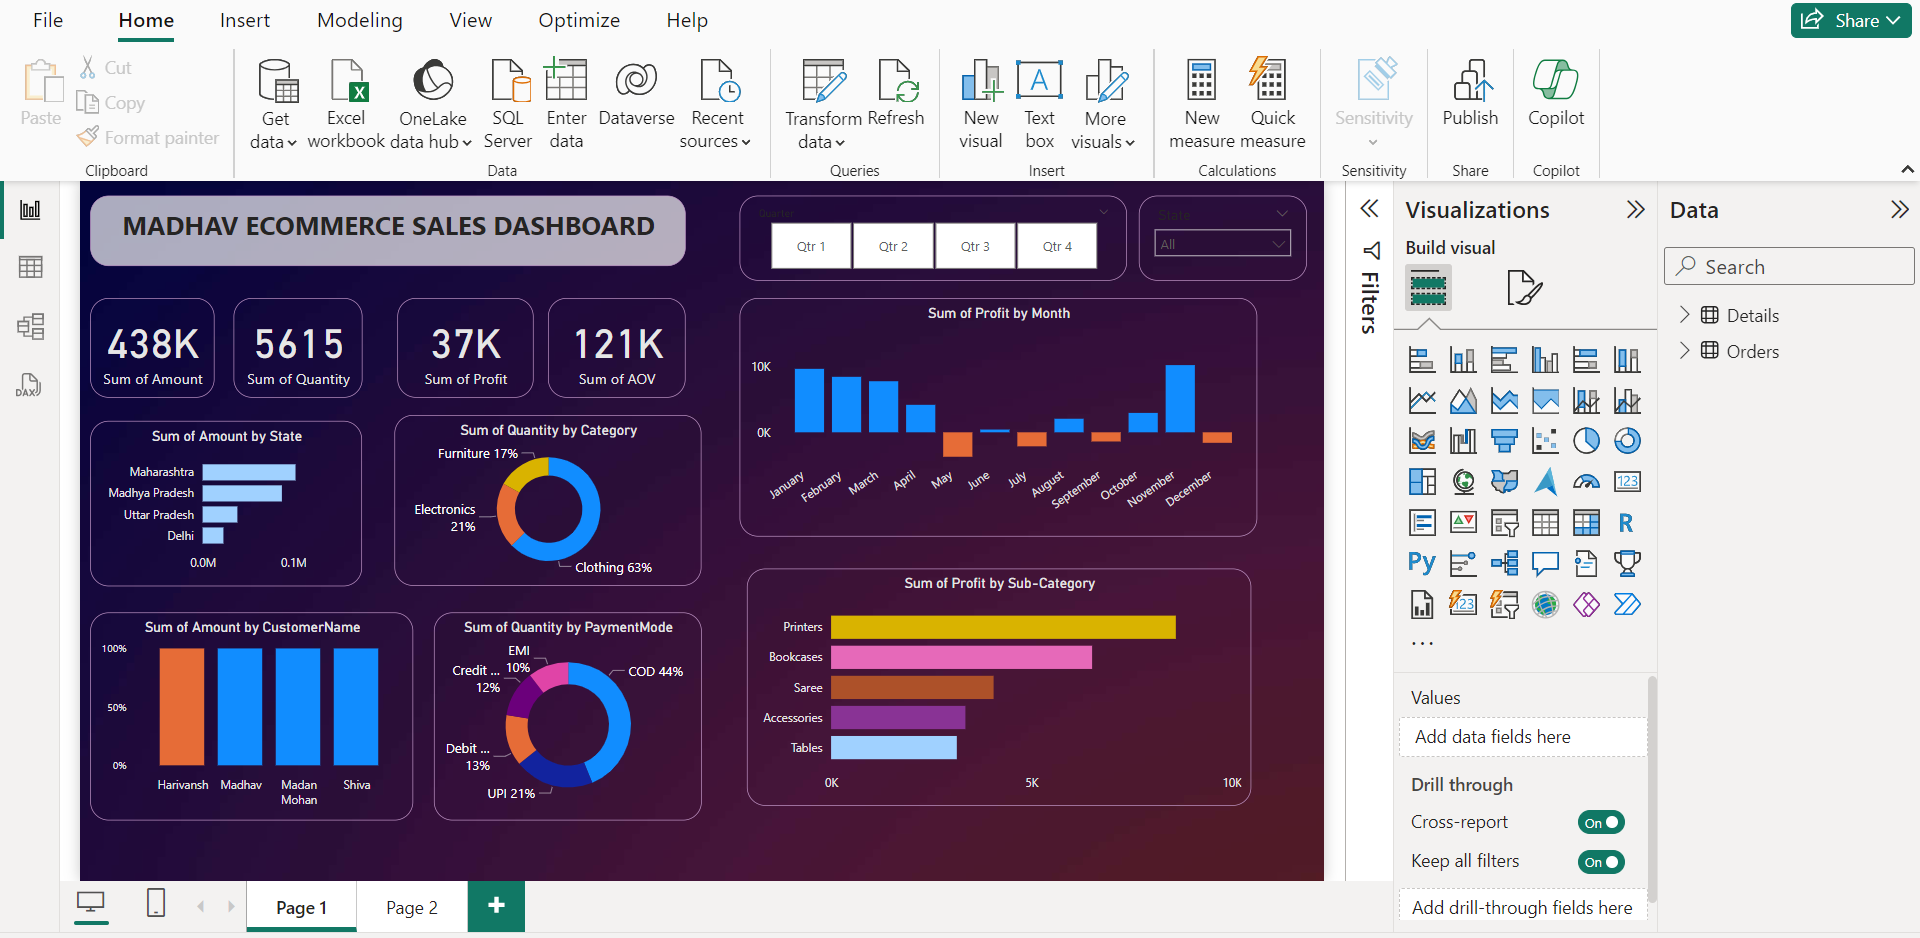

Layout of this report page (visuals, bound fields, positions):
{"tool":"powerbi","page":{"name":"Page 1","canvas":[1280,720],"ordinal":0},"visuals":[{"type":"textbox","box":[10.5,15,612.5,72.2],"z":0},{"type":"columnChart","fields":{"Category":["Orders.Order Date.Variation.Date Hierarchy.Month"],"Y":["Details.Profit"]},"box":[678.7,120.4,532.7,245.3],"z":1000},{"type":"barChart","fields":{"Category":["Details.Sub-Category"],"Y":["Details.Profit"]},"box":[686.2,398.8,519.2,243.8],"z":2000},{"type":"donutChart","fields":{"Category":["Details.Category"],"Y":["Details.Quantity"]},"box":[323.5,240.8,316,176.1],"z":3000},{"type":"donutChart","fields":{"Y":["Details.Quantity"],"Category":["Details.PaymentMode"]},"box":[364.2,443.9,275.4,213.7],"z":4000},{"type":"card","fields":{"Values":["Details.Amount"]},"box":[10.5,120.4,127.9,102.3],"z":5000},{"type":"card","fields":{"Values":["Details.Quantity"]},"box":[158,120.4,132.4,102.3],"z":6000},{"type":"card","fields":{"Values":["Details.AOV"]},"box":[481.6,120.4,141.5,102.3],"z":7000},{"type":"card","fields":{"Values":["Details.Profit"]},"box":[326.6,120.4,140,102.3],"z":8000},{"type":"barChart","fields":{"Category":["Orders.State"],"Y":["Details.Amount"]},"box":[10.5,246.8,279.9,170],"z":9000},{"type":"hundredPercentStackedColumnChart","fields":{"Category":["Orders.CustomerName"],"Y":["Details.Amount"]},"box":[10.5,443.9,332.6,213.7],"z":10000},{"type":"slicer","fields":{"Values":["Orders.Order Date.Variation.Date Hierarchy.Quarter"]},"box":[678.7,15,398.8,87.3],"z":11000},{"type":"slicer","fields":{"Values":["Orders.State"]},"box":[1089.5,15,173.1,87.3],"z":12000}]}

Visuals, with their boxes on the page's 1280x720 design canvas (x1, y1, x2, y2). These are canvas units, not pixel positions in the 1920x938 screenshot, which may show the page scaled, cropped or inside an application window:
textbox: 10, 15, 623, 87
columnChart - Orders.Order Date.Variation.Date Hierarchy.Month x Details.Profit: 679, 120, 1211, 366
barChart - Details.Sub-Category x Details.Profit: 686, 399, 1205, 643
donutChart - Details.Category x Details.Quantity: 324, 241, 640, 417
donutChart - Details.Quantity x Details.PaymentMode: 364, 444, 640, 658
card - Details.Amount: 10, 120, 138, 223
card - Details.Quantity: 158, 120, 290, 223
card - Details.AOV: 482, 120, 623, 223
card - Details.Profit: 327, 120, 467, 223
barChart - Orders.State x Details.Amount: 10, 247, 290, 417
hundredPercentStackedColumnChart - Orders.CustomerName x Details.Amount: 10, 444, 343, 658
slicer - Orders.Order Date.Variation.Date Hierarchy.Quarter: 679, 15, 1078, 102
slicer - Orders.State: 1090, 15, 1263, 102
